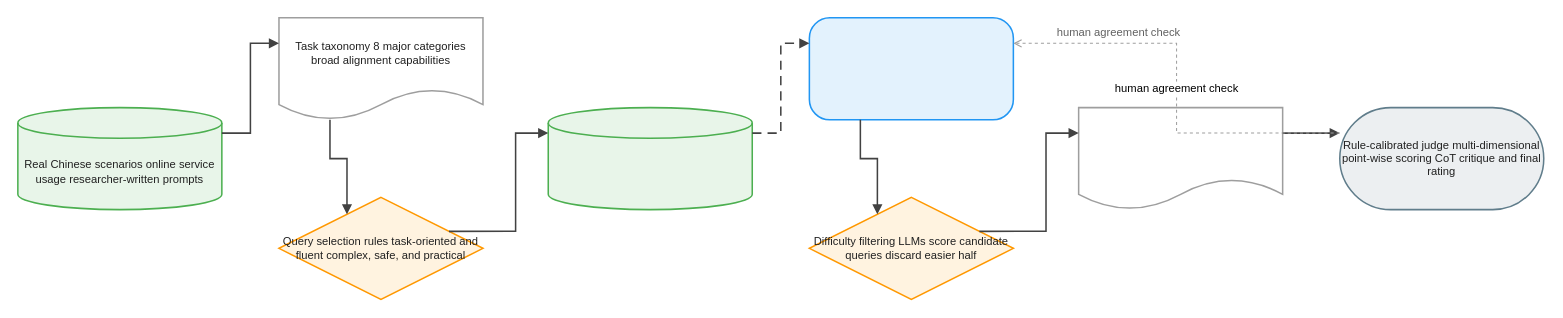
Some shapes in this 1563 by 318 pixel diagram are drawn without their labels. Here are the shapes that lost their labels. From the top down, the centre of each, then its label:
At (x=911, y=68): "Human-verified references GPT-4 drafts annotator review and revision".
At (x=650, y=158): "Web evidence collection URLs and quotations for knowledge-heavy queries".
At (x=1180, y=158): "AlignBench set 683 real-scenario queries category + reference answer".
